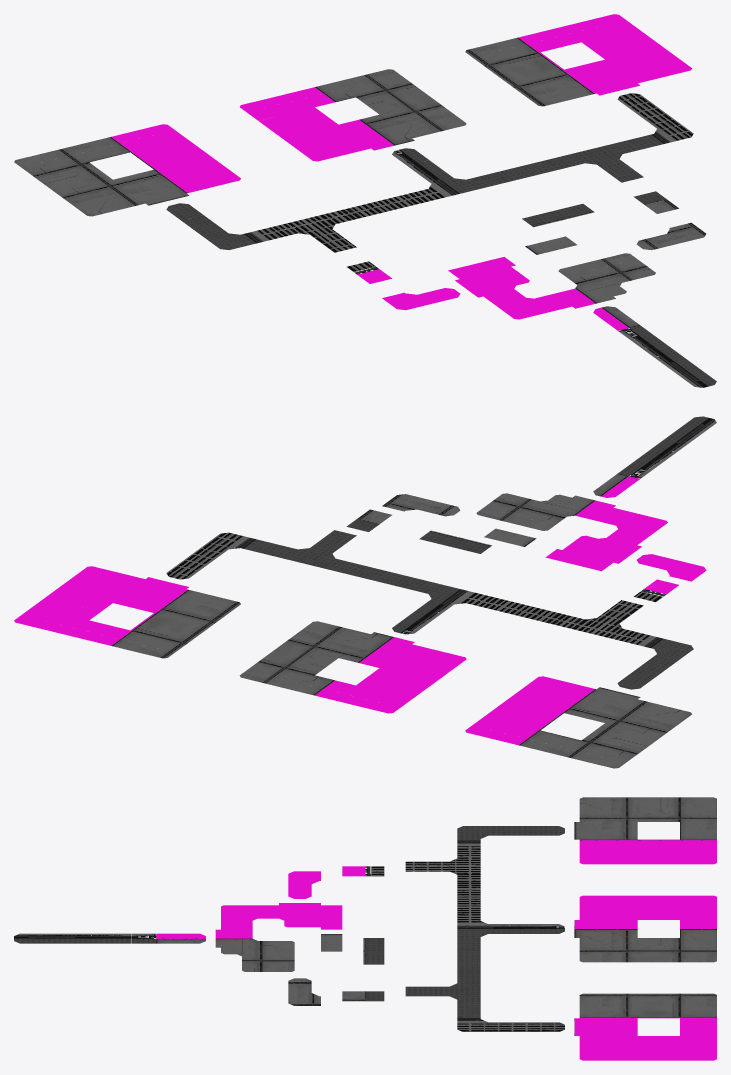
The model's file is shaderLayer.FBX.
3 renders of one model, top to bottom at view 1: azimuth 30°, elevation 25°; view 2: azimuth 150°, elevation 25°; view 3: azimuth 270°, elevation 25°, orthographic. The views are drawn at different scales.
Parts seen in each view (by area): view 1: ShaderLayer02; view 2: ShaderLayer02; view 3: ShaderLayer02.
Boxes of the visible parts, x1,y1,x2,y2 form: ShaderLayer02: (14, 14, 716, 387); ShaderLayer02: (14, 416, 716, 768); ShaderLayer02: (14, 797, 716, 1060).
Bounding box in the file's own units: 5900 × 101 × 6660.
